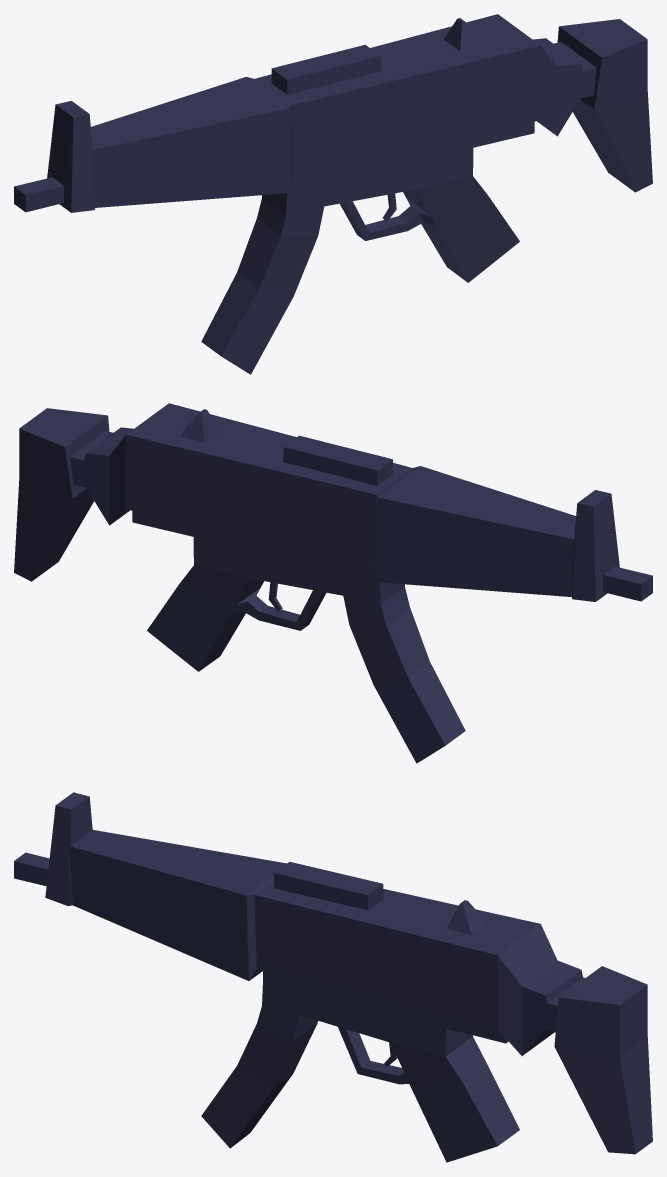
The model's file is HKMP5.fbx.
The picture shows the model from 3 angles, top to bottom: view 1: azimuth 30°, elevation 25°; view 2: azimuth 150°, elevation 25°; view 3: azimuth 330°, elevation 25°; orthographic projection.
Visible parts, largest first — view 1: HKMP5; view 2: HKMP5; view 3: HKMP5.
Part boxes in pixels (x1,y1,x2,y2): HKMP5: (14, 14, 652, 374); HKMP5: (14, 403, 652, 763); HKMP5: (14, 792, 652, 1162).
Bounding box in the file's own units: 50.6 × 23.17 × 6.07.
